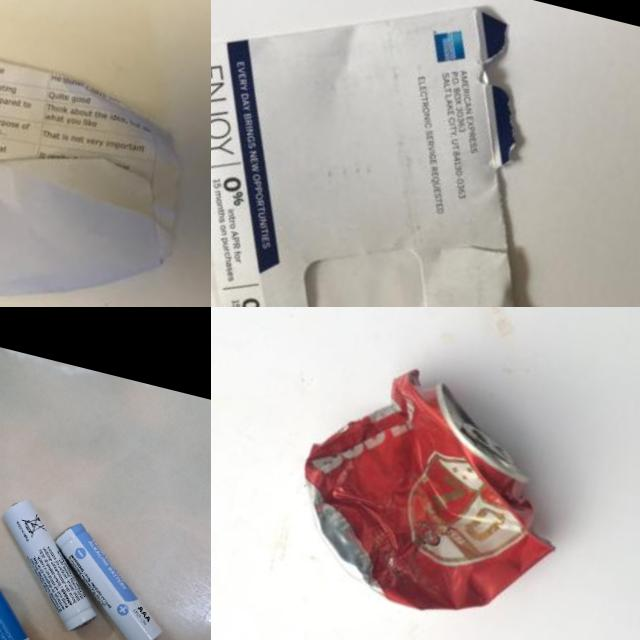aba de lata: (416, 378, 550, 484)
bateria: (33, 517, 184, 640), (0, 493, 121, 634), (0, 569, 96, 640)
lata: (274, 345, 589, 640)
papel: (211, 0, 640, 307), (0, 16, 205, 307)
